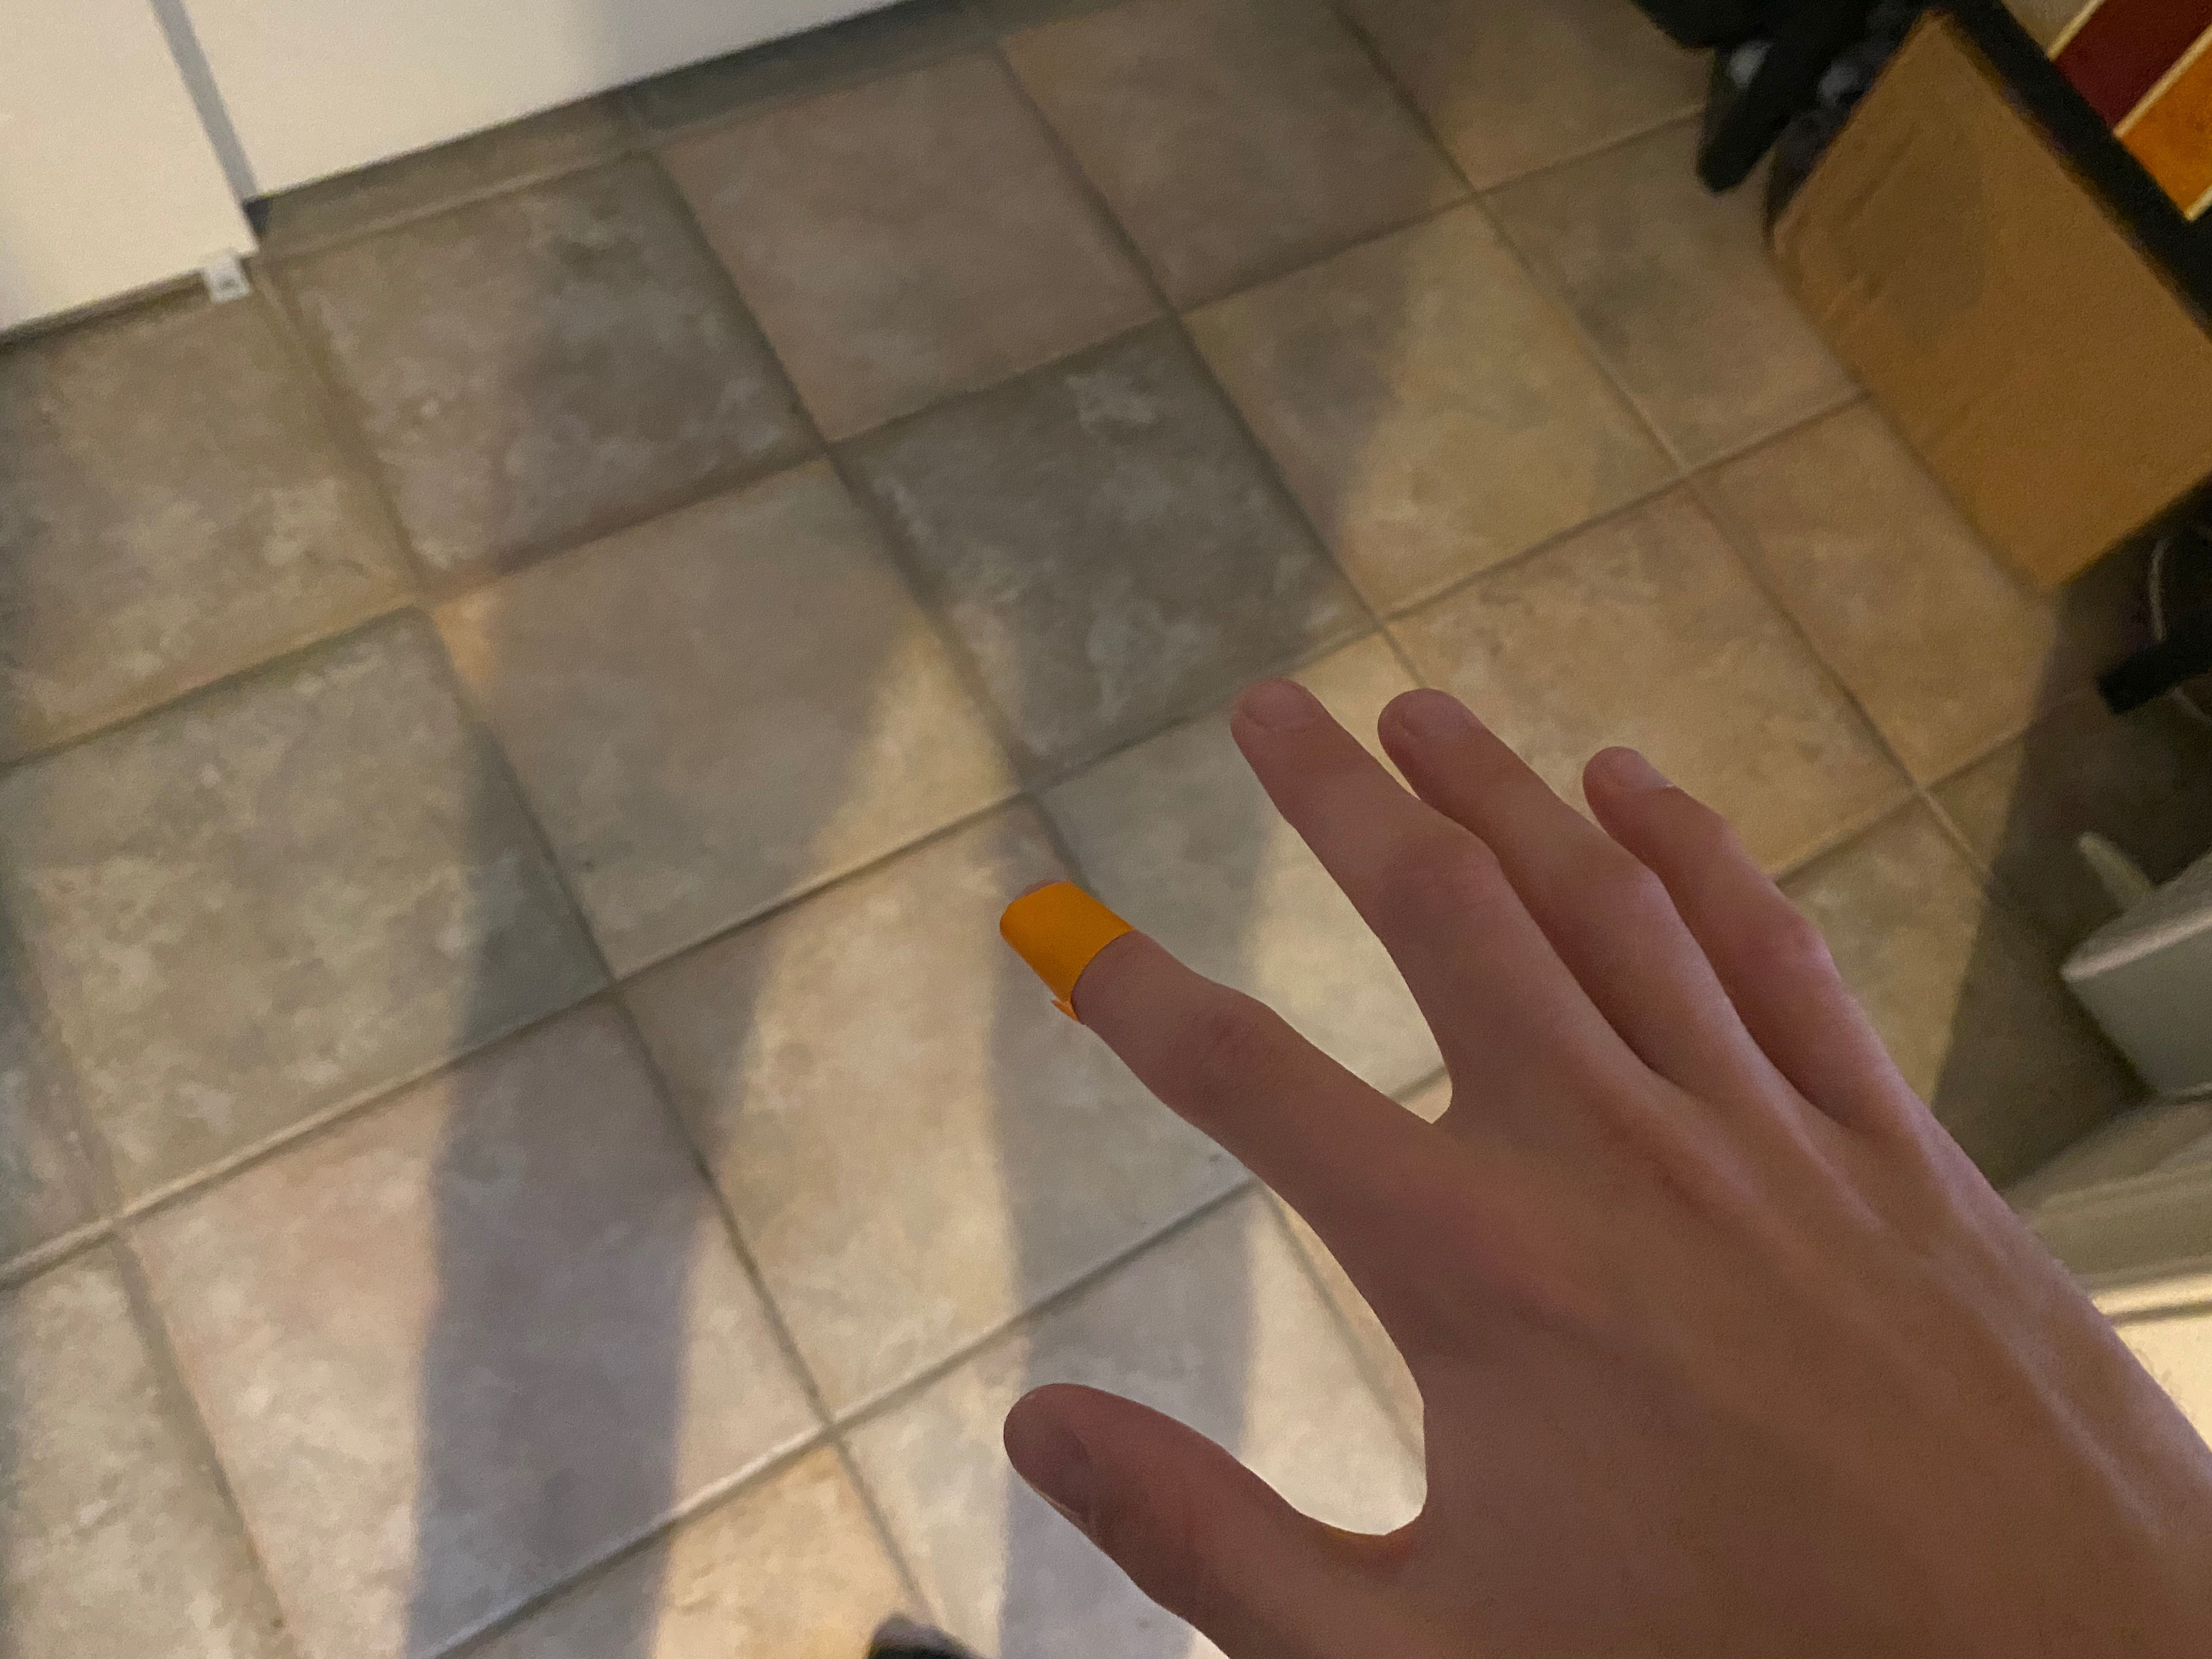fingertip: (977, 863, 1191, 1025)
